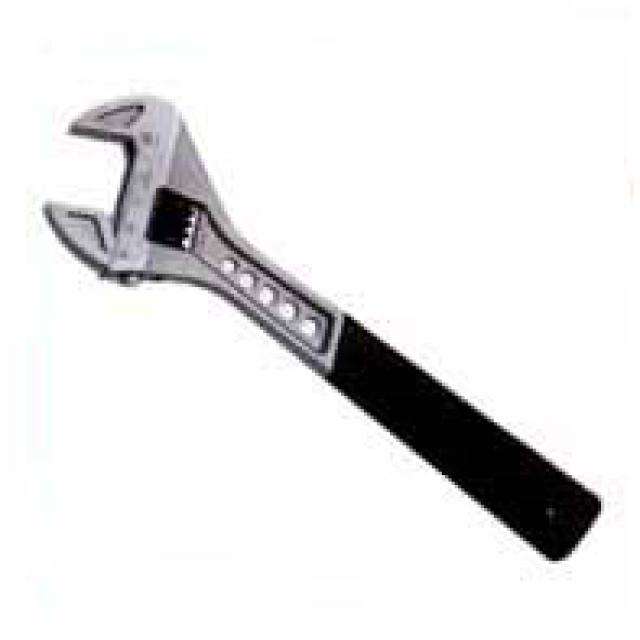wrench: (28, 76, 614, 606)
